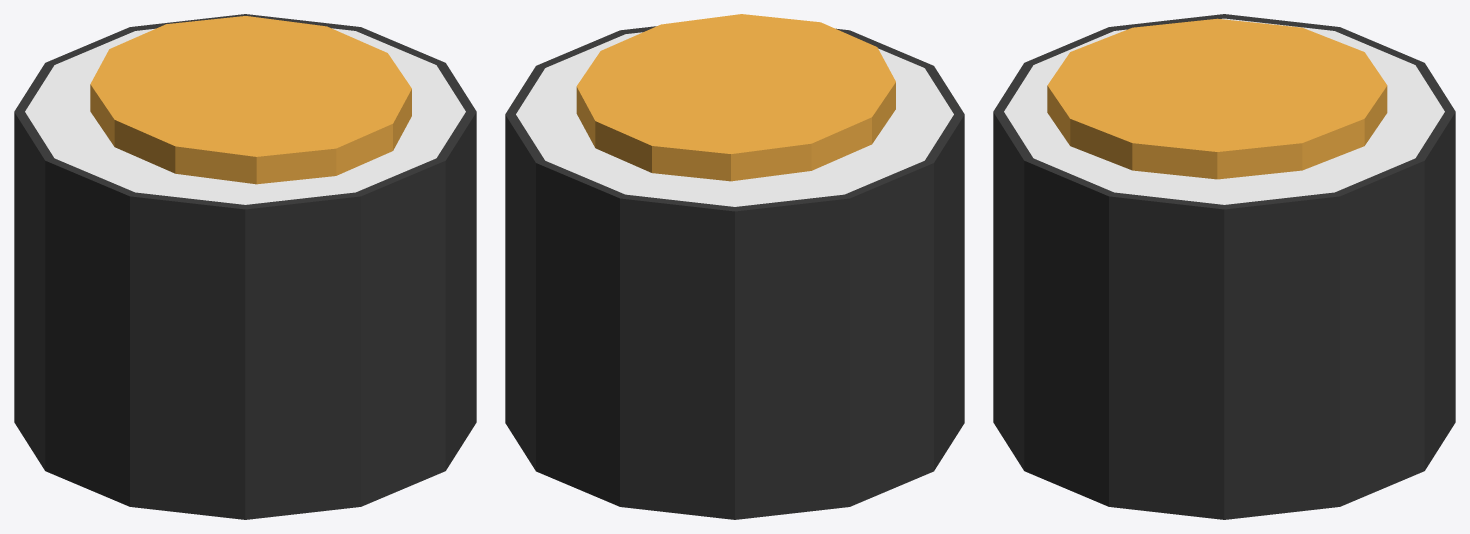
Rendered from SushiRoll_1.fbx.
The picture shows the model from 3 angles, left to right: view 1: azimuth 30°, elevation 25°; view 2: azimuth 150°, elevation 25°; view 3: azimuth 270°, elevation 25°; orthographic projection.
Parts seen in each view (by area): view 1: SushiRoll_1; view 2: SushiRoll_1; view 3: SushiRoll_1.
Part boxes in pixels (x1,y1,x2,y2): SushiRoll_1: (14,14,476,519); SushiRoll_1: (505,14,964,519); SushiRoll_1: (993,14,1455,519).
Size of the model in its own units: 10.79 by 8.7 by 10.79.
